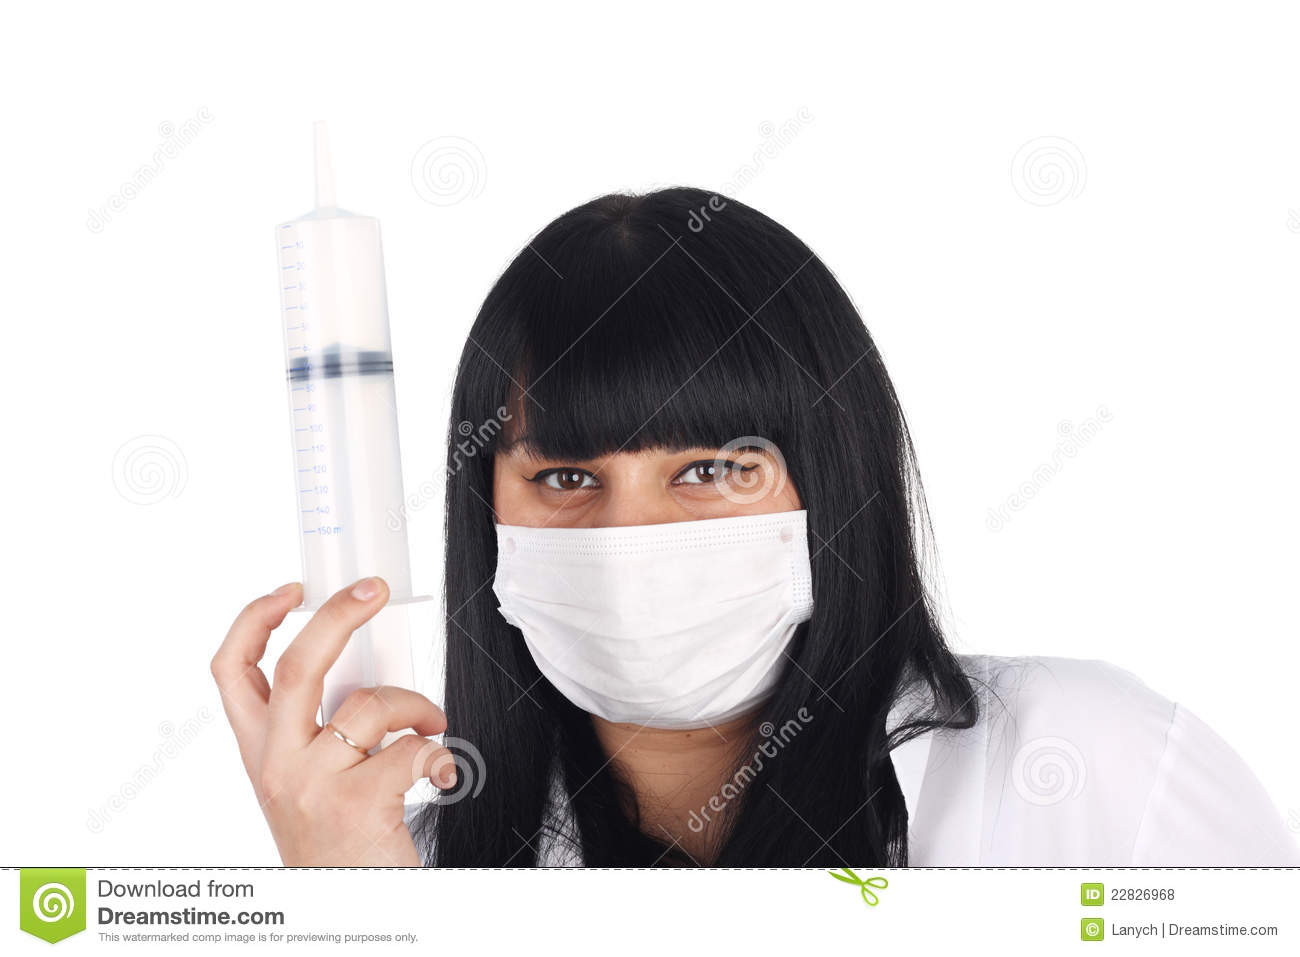mask: (495, 517, 814, 732)
